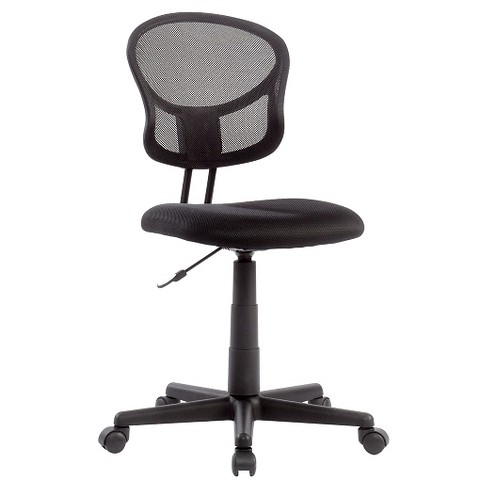chairs: (99, 13, 393, 478)
